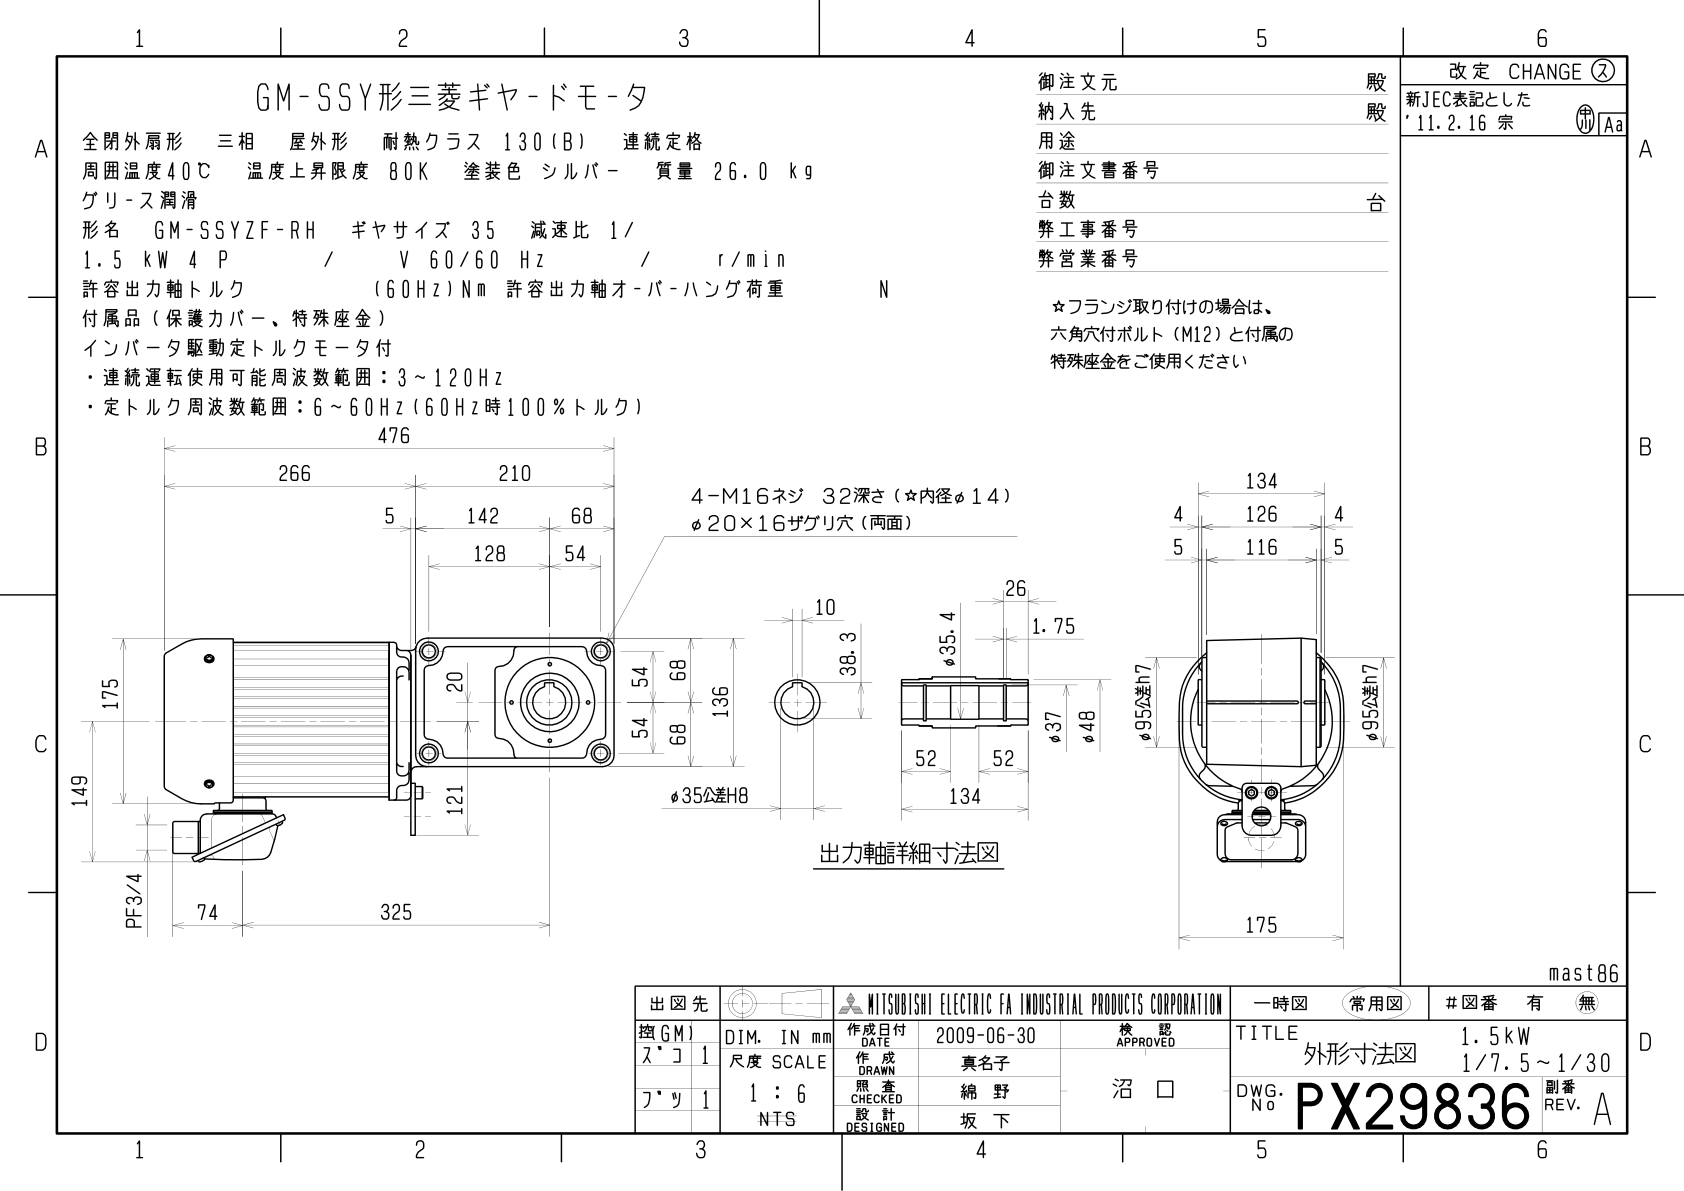GM_SSY_インバータ屋外_三相: (9, 10, 1669, 1183)
